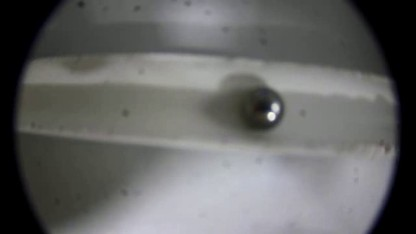gangzhu: (238, 86, 284, 128)
